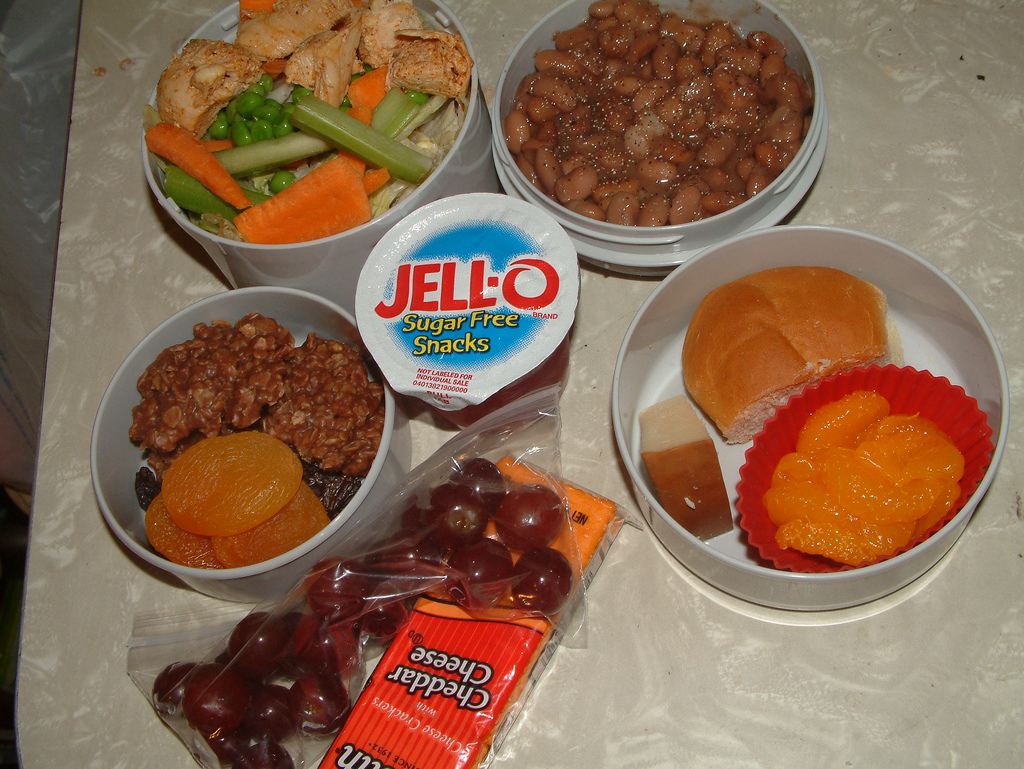boiled peas: (232, 97, 283, 135)
slice of bread: (696, 284, 899, 361)
